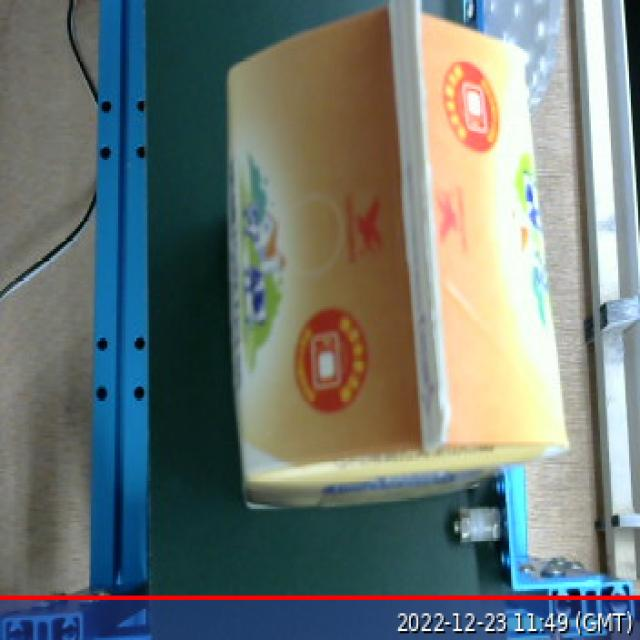non_white_jug: (214, 0, 588, 526)
